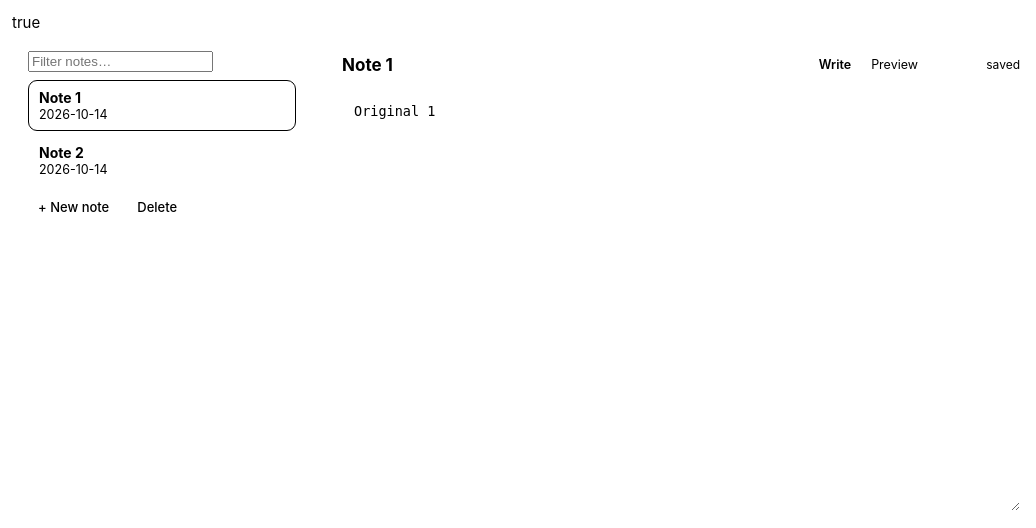
Test: Codex architect acceptance: durable note editing › reloads a conflict only on explicit user choice
This screenshot has width=1036, height=528.
Replace the text in the text box named "Note body (Markdown)" with "My draft". click: (681, 300)
box: [342, 88, 1020, 511]
Wait 1400 ms
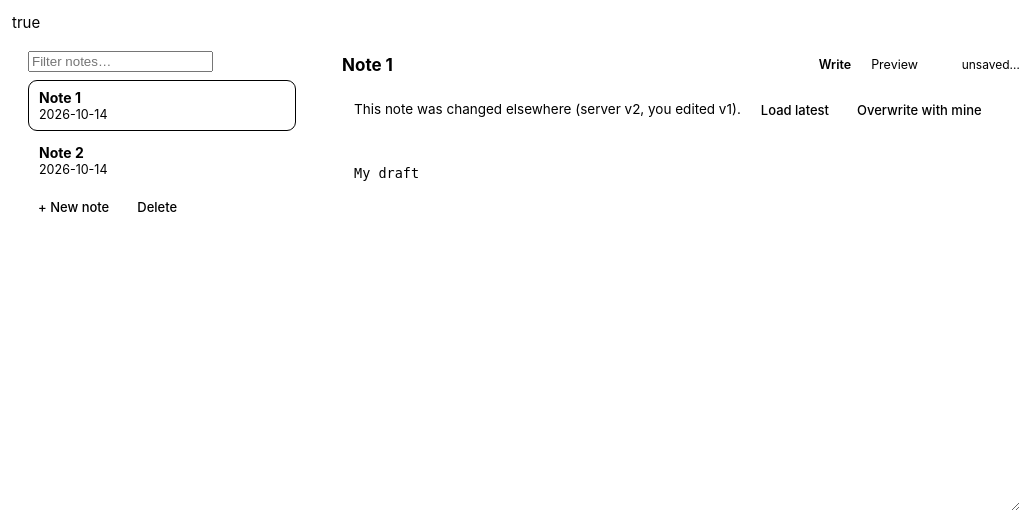
Click the button "Load latest". click: (795, 110)
box: [751, 96, 839, 122]
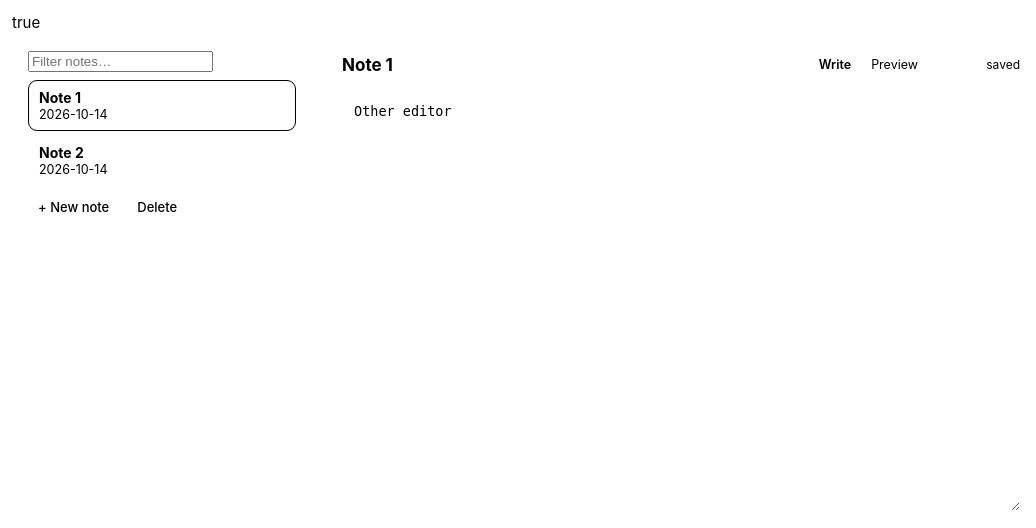
Expected: the text box named "Note body (Markdown)" holds "Other editor", [342, 88, 1020, 511]
